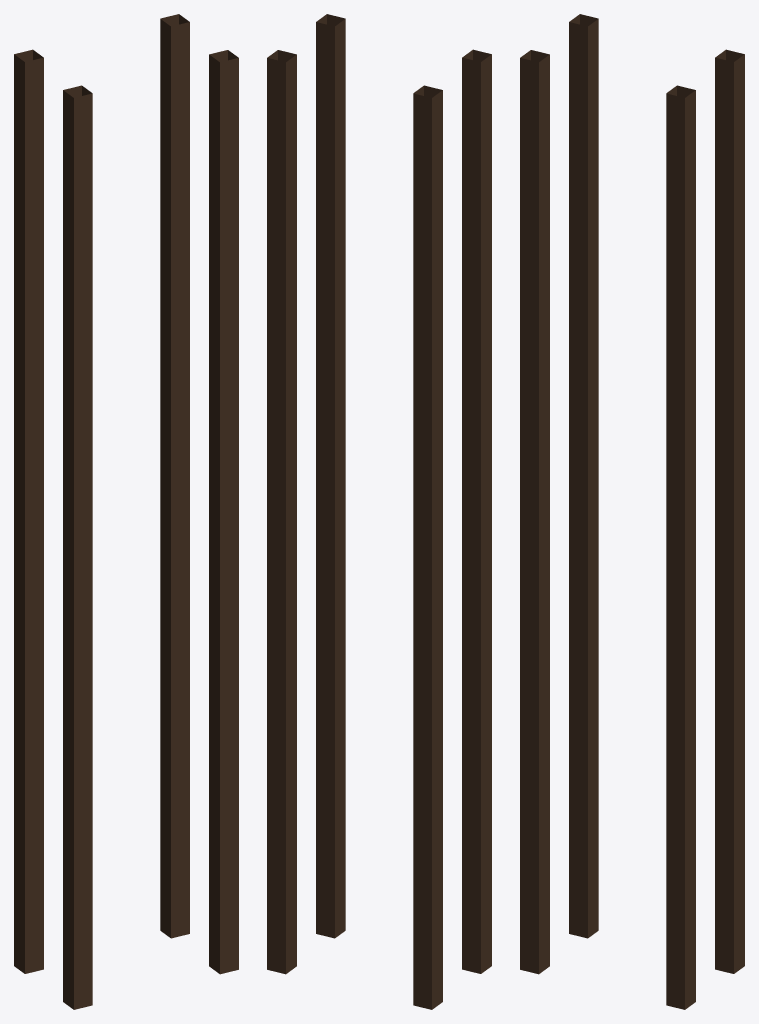
File: elevator.glb
The picture shows the model from 3 angles, left to right: view 1: azimuth 30°, elevation 25°; view 2: azimuth 150°, elevation 25°; view 3: azimuth 330°, elevation 25°; orthographic projection.
Parts seen in each view (by area): view 1: Frame; view 2: Frame; view 3: Frame.
Boxes of the visible parts, x1,y1,x2,y2 form: Frame: (14, 14, 238, 1009); Frame: (267, 14, 491, 1009); Frame: (520, 14, 744, 1009).
Size of the model in its own units: 7 by 37 by 4.4.
